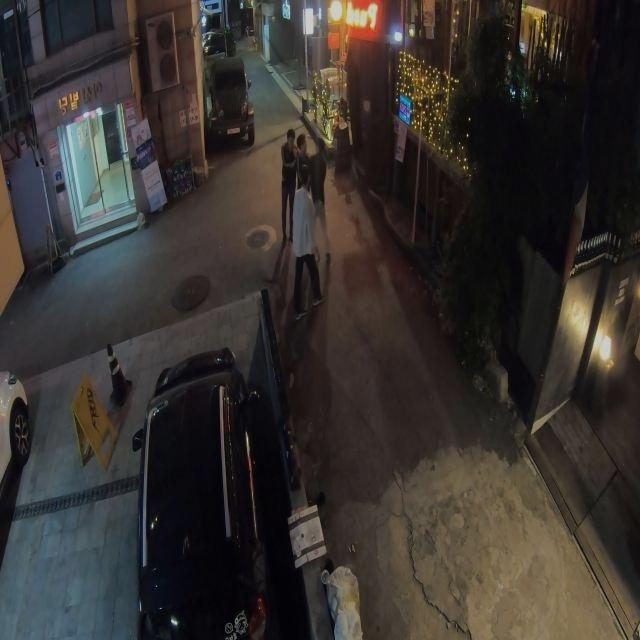fight: (279, 128, 332, 254)
non-fight: (289, 165, 326, 322)
